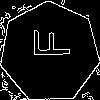F: (24, 27, 70, 60)
